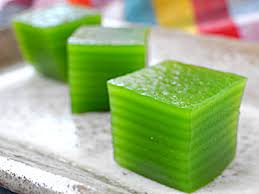kanomchan: (103, 55, 251, 194), (63, 16, 158, 128)
